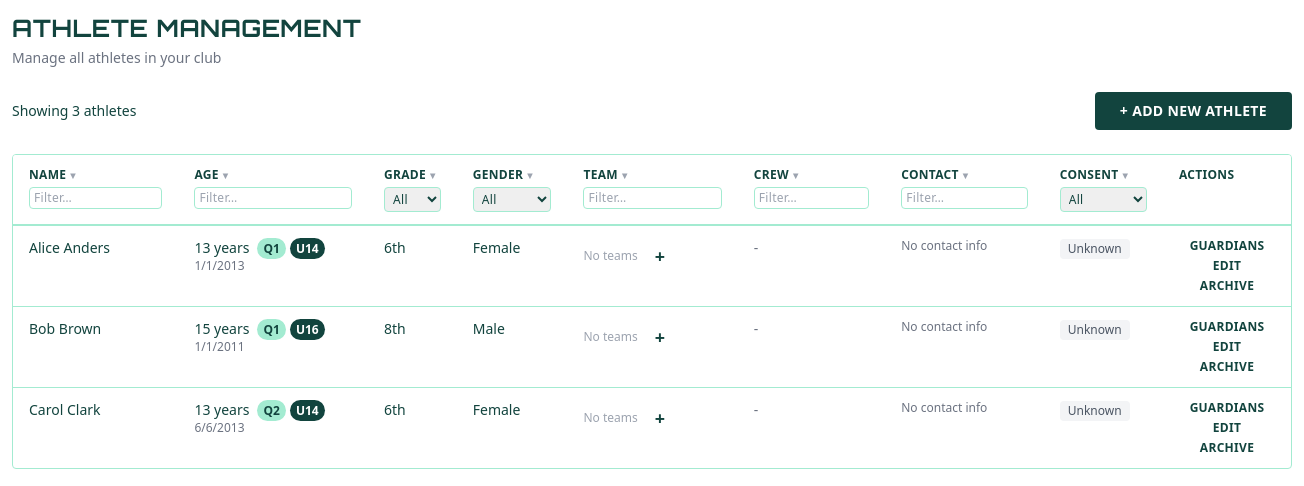
Scenario: AthleteManagement search + filters (CA-18) › filters by grade
This screenshot has width=1304, height=486.
Check: the link "Alice Anders" is shown, box [29,238,110,257]
Select "6th" in the 1st dropdown at (412, 200), box [384,187,441,212]
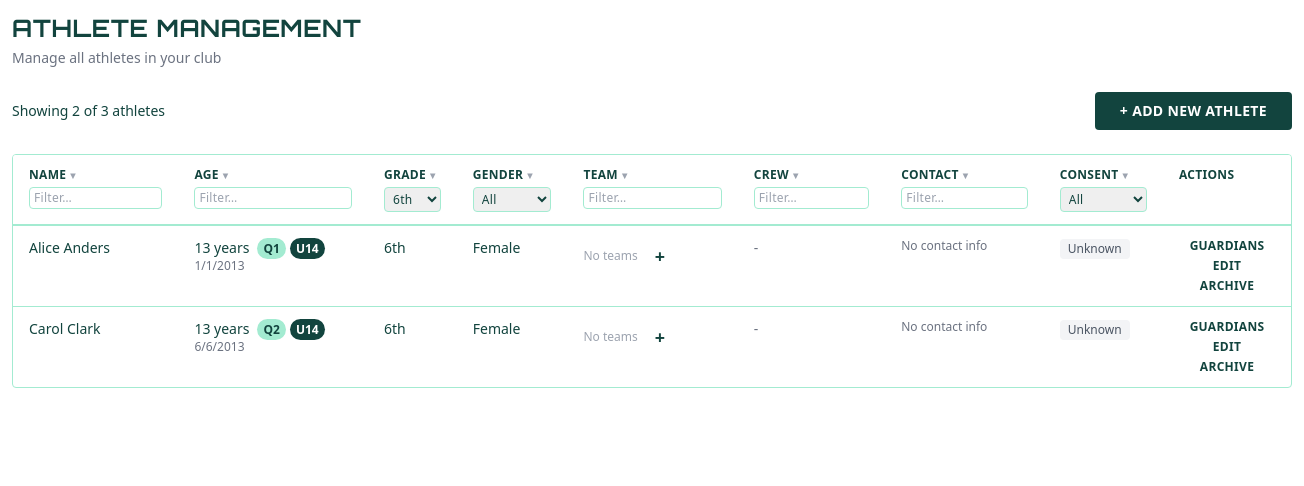
Check: the link "Alice Anders" is shown, box [29,238,110,257]
Check: the link "Bob Brown" is gone
